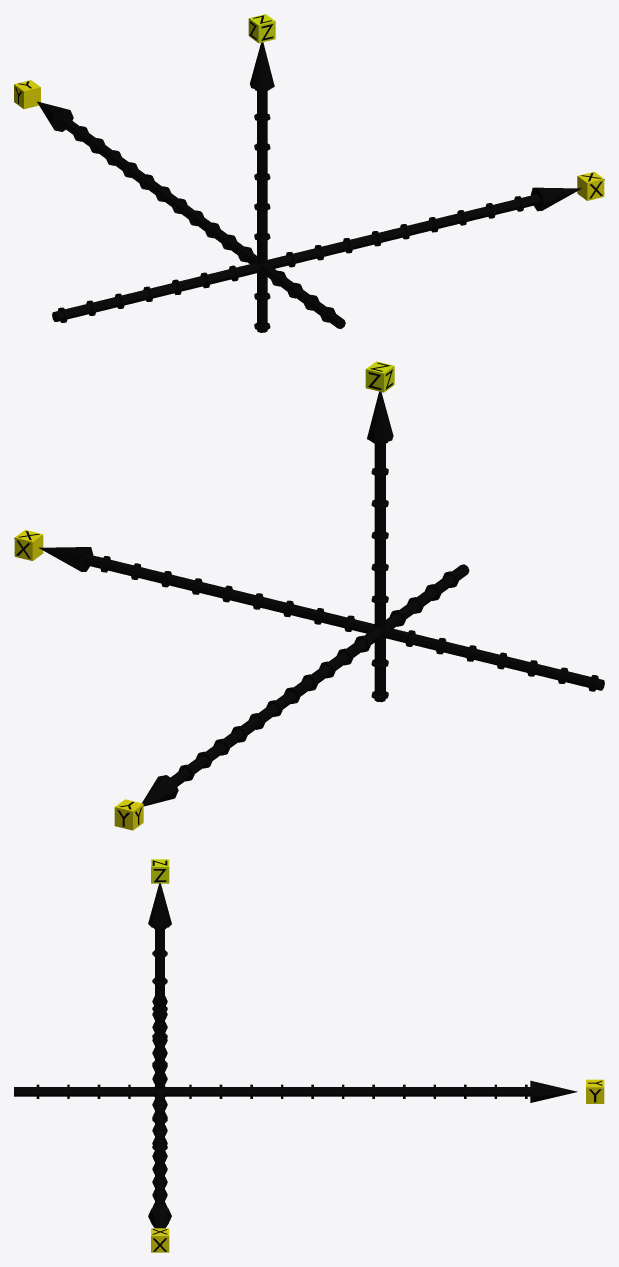
The model's file is axes.gltf.
3 renders of one model, top to bottom at view 1: azimuth 30°, elevation 25°; view 2: azimuth 150°, elevation 25°; view 3: azimuth 270°, elevation 25°, orthographic. The views are drawn at different scales.
Visible parts, largest first — view 1: x-axis, y-axis, z-axis, y-axis label, x-axis label, z-axis label; view 2: x-axis, y-axis, z-axis, y-axis label, x-axis label, z-axis label; view 3: y-axis, z-axis, x-axis.
Part boxes in pixels (x1,y1,x2,y2): x-axis: [52, 187, 581, 322]; y-axis: [37, 101, 345, 328]; z-axis: [250, 42, 274, 332]; y-axis label: [14, 80, 40, 108]; x-axis label: [577, 171, 604, 200]; z-axis label: [248, 14, 275, 43]; x-axis: [38, 547, 604, 691]; y-axis: [142, 564, 469, 806]; z-axis: [367, 391, 393, 702]; y-axis label: [114, 799, 143, 830]; x-axis label: [14, 530, 43, 560]; z-axis label: [365, 361, 394, 392]; y-axis: [14, 1080, 577, 1102]; z-axis: [148, 883, 171, 1150]; x-axis: [148, 996, 171, 1228].
Bounding box in the file's own units: 191 × 104 × 194.
